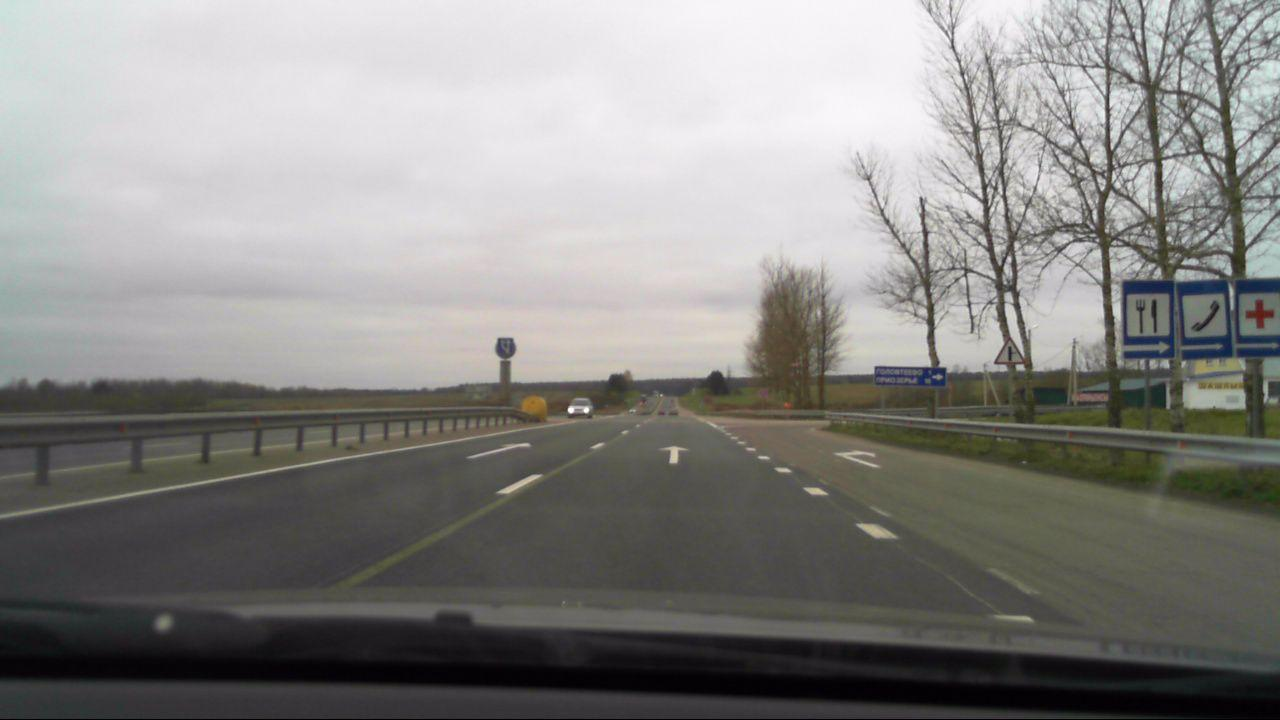2_3_2: (996, 336, 1023, 365)
5_15_4: (495, 333, 516, 361)
6_10_1: (873, 365, 947, 389)
7_1: (1237, 276, 1280, 356)
7_6: (1172, 276, 1233, 358)
7_7: (1121, 281, 1173, 358)
